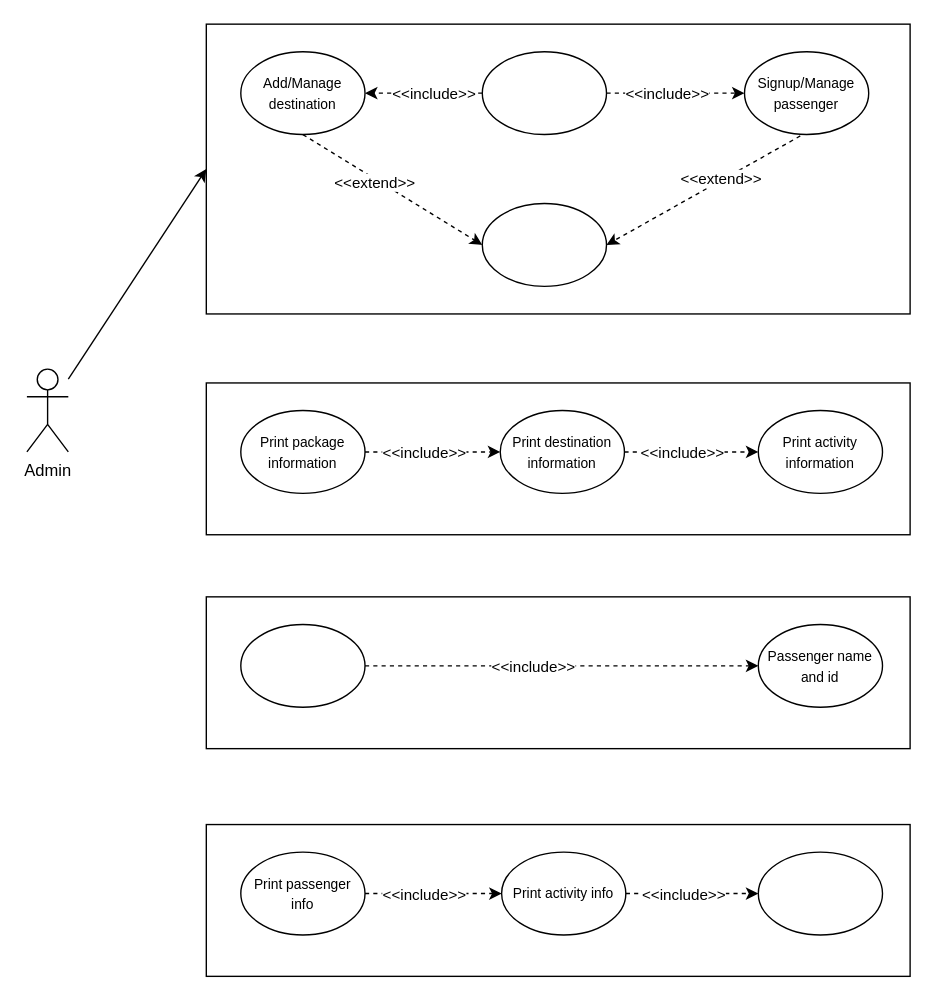
This 934x1001 diagram has some shape labels left out. The centre of each missing label's shape, as x and y in pixels:
Add /Manage package: (x=544, y=244)
Add/Manage activity: (x=544, y=92)
Print destination info: (x=820, y=893)
Print Package passenger info: (x=302, y=665)
